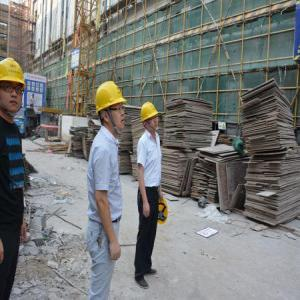yellow: (96, 81, 128, 132), (2, 55, 26, 121), (141, 99, 162, 134)
